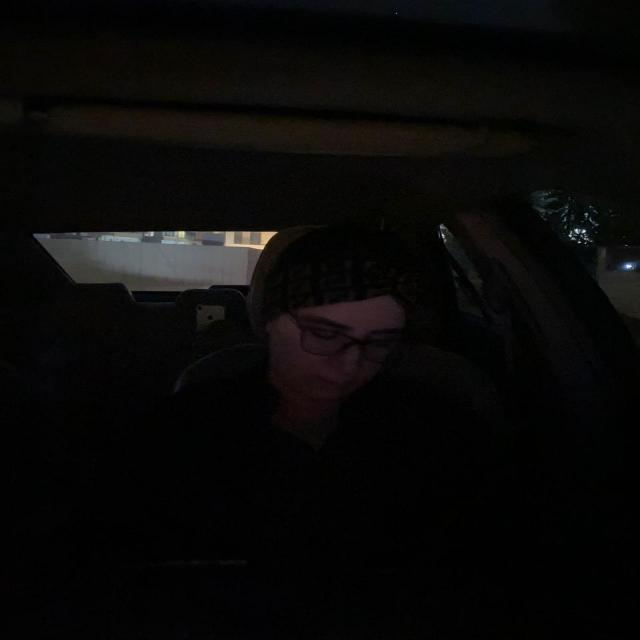drowsy: (248, 218, 436, 408)
